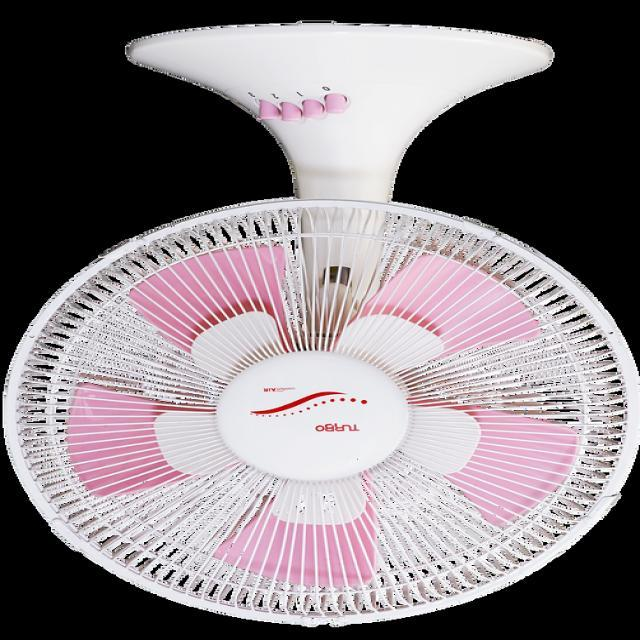fan: (8, 19, 632, 627)
